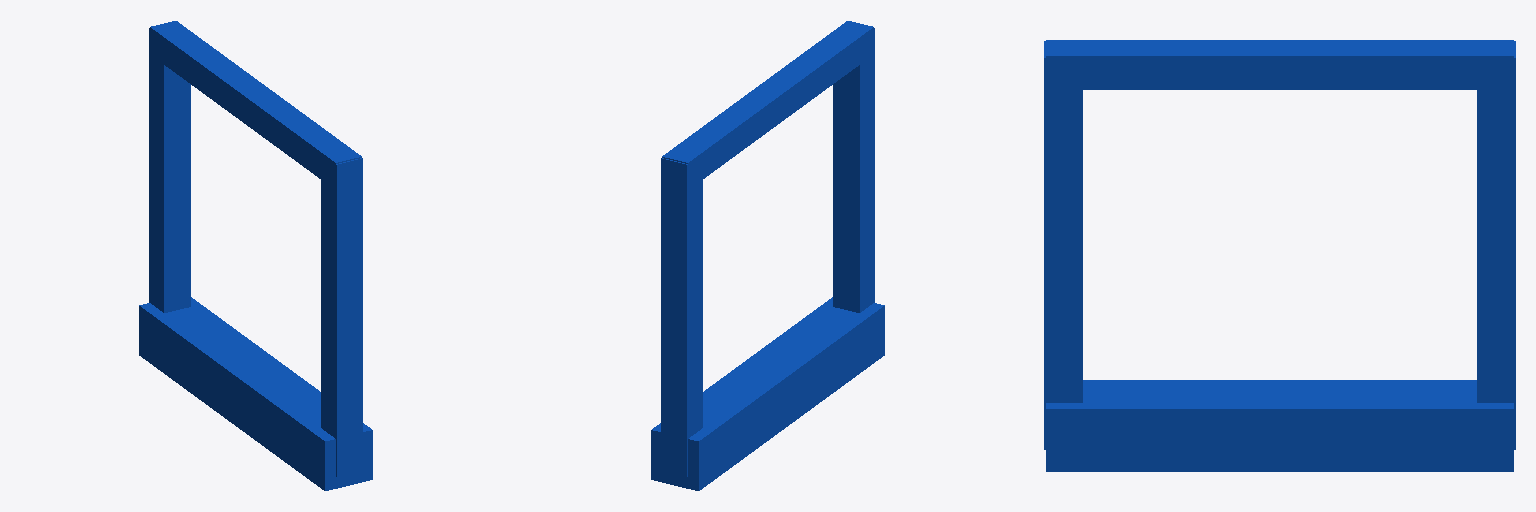
URDF robot description (gate_scale_050):
<?xml version="1.0" ?>
<robot name="gate_scale_050">
  <material name="gate_material">
    <color rgba="0.1 0.4 0.8 1.0"/>
  </material>
  <link name="base_link"/>
  <link name="left_post">
    <visual>
      <origin xyz="0.000 0.000 0.625" rpy="0 0 0"/>
      <geometry>
        <box size="0.110 0.110 1.250"/>
      </geometry>
      <material name="gate_material"/>
    </visual>
    <collision>
      <origin xyz="0.000 0.000 0.625" rpy="0 0 0"/>
      <geometry>
        <box size="0.110 0.110 1.250"/>
      </geometry>
    </collision>
    <inertial>
      <mass value="10.000"/>
      <inertia ixx="2.0" ixy="0.0" ixz="0.0" iyy="2.0" iyz="0.0" izz="2.0"/>
    </inertial>
  </link>
  <joint name="base_to_left_post" type="fixed">
    <parent link="base_link"/>
    <child link="left_post"/>
    <origin xyz="0.000 0.625 0.000" rpy="0 0 0"/>
  </joint>
  <link name="right_post">
    <visual>
      <origin xyz="0.000 0.000 0.625" rpy="0 0 0"/>
      <geometry>
        <box size="0.110 0.110 1.250"/>
      </geometry>
      <material name="gate_material"/>
    </visual>
    <collision>
      <origin xyz="0.000 0.000 0.625" rpy="0 0 0"/>
      <geometry>
        <box size="0.110 0.110 1.250"/>
      </geometry>
    </collision>
    <inertial>
      <mass value="10.000"/>
      <inertia ixx="2.0" ixy="0.0" ixz="0.0" iyy="2.0" iyz="0.0" izz="2.0"/>
    </inertial>
  </link>
  <joint name="base_to_right_post" type="fixed">
    <parent link="base_link"/>
    <child link="right_post"/>
    <origin xyz="0.000 -0.625 0.000" rpy="0 0 0"/>
  </joint>
  <link name="top_bar">
    <visual>
      <origin xyz="0.000 0.000 0.000" rpy="0 0 0"/>
      <geometry>
        <box size="0.110 1.350 0.110"/>
      </geometry>
      <material name="gate_material"/>
    </visual>
    <collision>
      <origin xyz="0.000 0.000 0.000" rpy="0 0 0"/>
      <geometry>
        <box size="0.110 1.350 0.110"/>
      </geometry>
    </collision>
    <inertial>
      <mass value="10.000"/>
      <inertia ixx="2.0" ixy="0.0" ixz="0.0" iyy="2.0" iyz="0.0" izz="2.0"/>
    </inertial>
  </link>
  <joint name="base_to_top_bar" type="fixed">
    <parent link="base_link"/>
    <child link="top_bar"/>
    <origin xyz="0.000 0.000 1.200" rpy="0 0 0"/>
  </joint>
  <link name="bottom_bar">
    <visual>
      <origin xyz="0.000 0.000 0.000" rpy="0 0 0"/>
      <geometry>
        <box size="0.200 1.350 0.200"/>
      </geometry>
      <material name="gate_material"/>
    </visual>
    <collision>
      <origin xyz="0.000 0.000 0.000" rpy="0 0 0"/>
      <geometry>
        <box size="0.200 1.350 0.200"/>
      </geometry>
    </collision>
    <inertial>
      <mass value="10.000"/>
      <inertia ixx="2.0" ixy="0.0" ixz="0.0" iyy="2.0" iyz="0.0" izz="2.0"/>
    </inertial>
  </link>
  <joint name="base_to_bottom_bar" type="fixed">
    <parent link="base_link"/>
    <child link="bottom_bar"/>
    <origin xyz="0.000 0.000 0.050" rpy="0 0 0"/>
  </joint>
</robot> 

--- Facts derived from the render (not from the file) ---
The picture shows the robot from 3 angles, left to right: view 1: azimuth 30°, elevation 25°; view 2: azimuth 150°, elevation 25°; view 3: azimuth 270°, elevation 25°; orthographic projection.
Robot: gate_scale_050 — 5 links, 4 joints (4 fixed); root link base_link; default pose: every joint at zero.
Visible links, largest first — view 1: bottom_bar, right_post, left_post, top_bar; view 2: bottom_bar, left_post, right_post, top_bar; view 3: bottom_bar, top_bar, left_post, right_post.
Boxes of the visible links, x1,y1,x2,y2 form: bottom_bar: (139,297,372,490); right_post: (321,154,362,476); left_post: (149,28,190,312); top_bar: (150,21,361,178); bottom_bar: (651,297,884,490); left_post: (661,154,702,476); right_post: (833,28,874,312); top_bar: (662,21,873,185); bottom_bar: (1046,380,1513,471); top_bar: (1046,40,1513,89); left_post: (1477,41,1515,449); right_post: (1044,41,1082,449).
Bounding box of the posed robot: 0.2 × 1.36 × 1.3 m (x, y, z).
Geometry: primitives only (box / cylinder / sphere), no mesh files.
